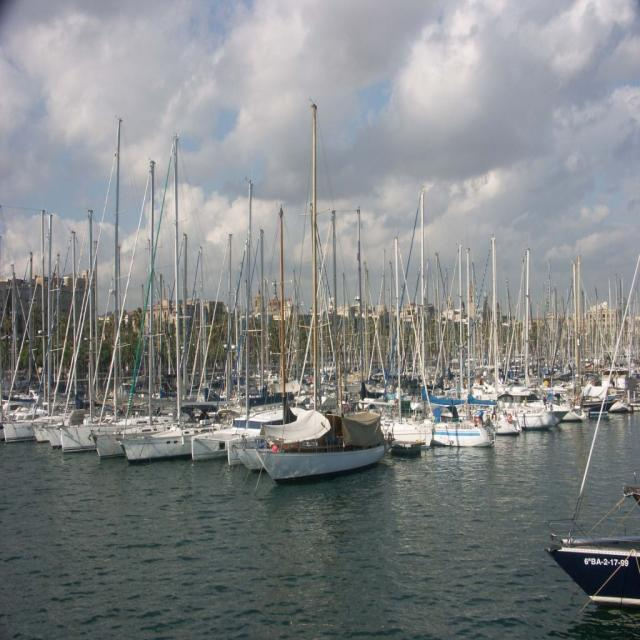fishing boat: (252, 388, 377, 465), (434, 412, 488, 472)
